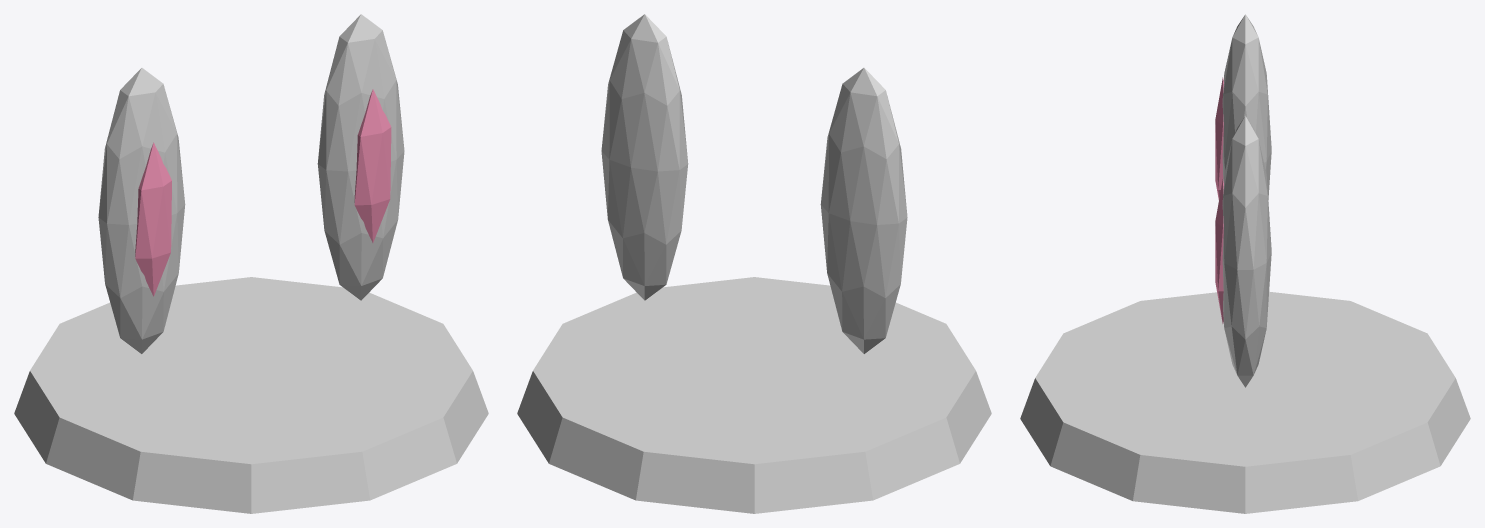
File: hat_bunny_ears.glb
3 renders of one model, left to right at view 1: azimuth 30°, elevation 25°; view 2: azimuth 150°, elevation 25°; view 3: azimuth 270°, elevation 25°, orthographic. The views are drawn at different scales.
Parts seen in each view (by area): view 1: hat_bunny_ears; view 2: hat_bunny_ears; view 3: hat_bunny_ears.
Boxes of the visible parts, left/top/right/bottom form: hat_bunny_ears: left=14, top=14, right=488, bottom=513; hat_bunny_ears: left=517, top=14, right=991, bottom=513; hat_bunny_ears: left=1020, top=14, right=1470, bottom=513.
Size of the model in its own units: 0.6 by 0.52 by 0.6.
